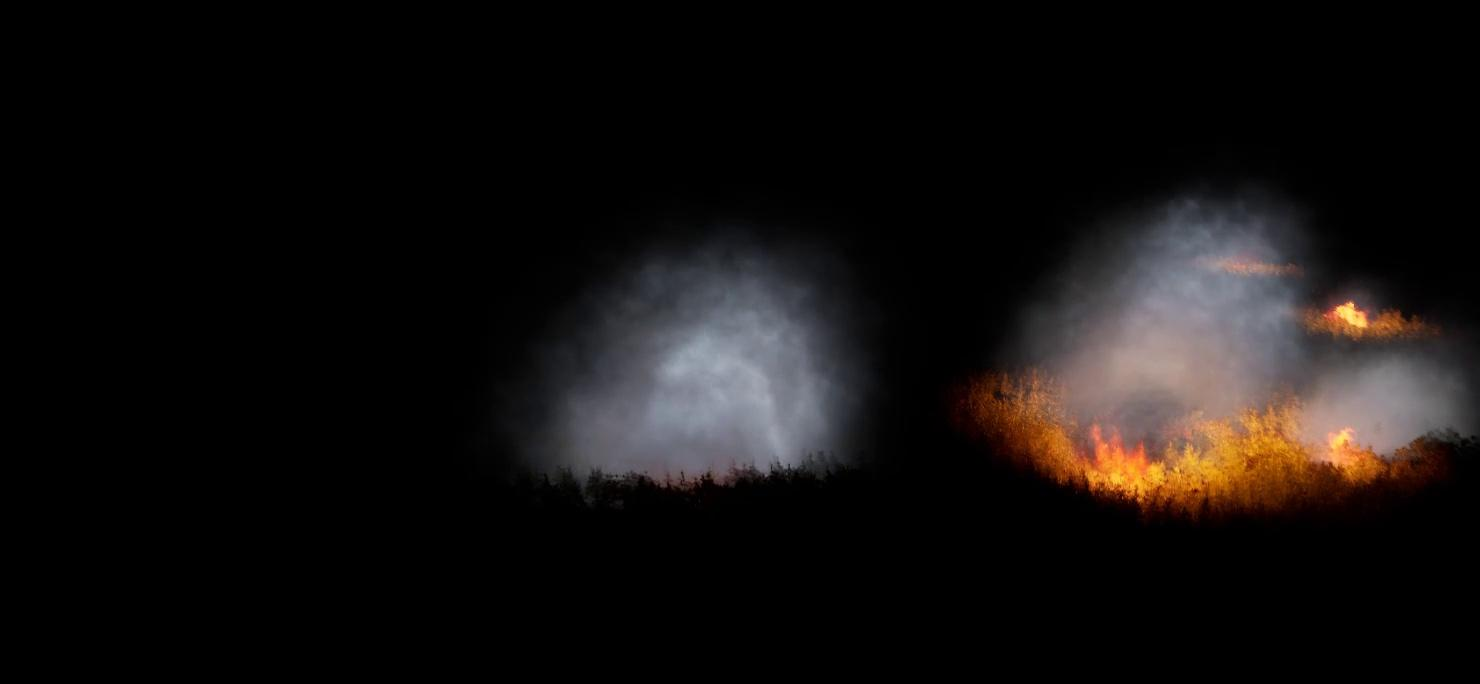fire: (992, 385, 1400, 514), (1333, 299, 1374, 335)
smoke: (1007, 193, 1479, 465), (509, 208, 884, 484)
